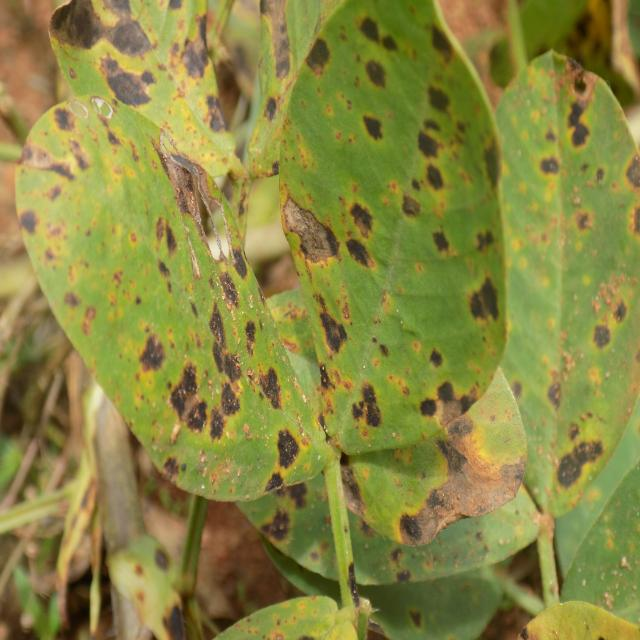Ground nut_tikka leaf spot: (19, 95, 328, 500), (280, 0, 504, 454), (472, 42, 640, 524)
